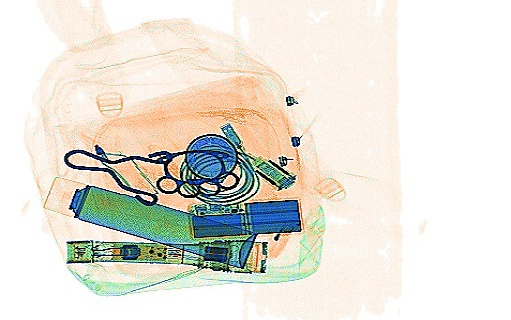lighter: (260, 207, 300, 259)
powerbank: (184, 194, 306, 241)
pressure: (40, 174, 258, 270)
slingshot: (62, 144, 172, 207)
